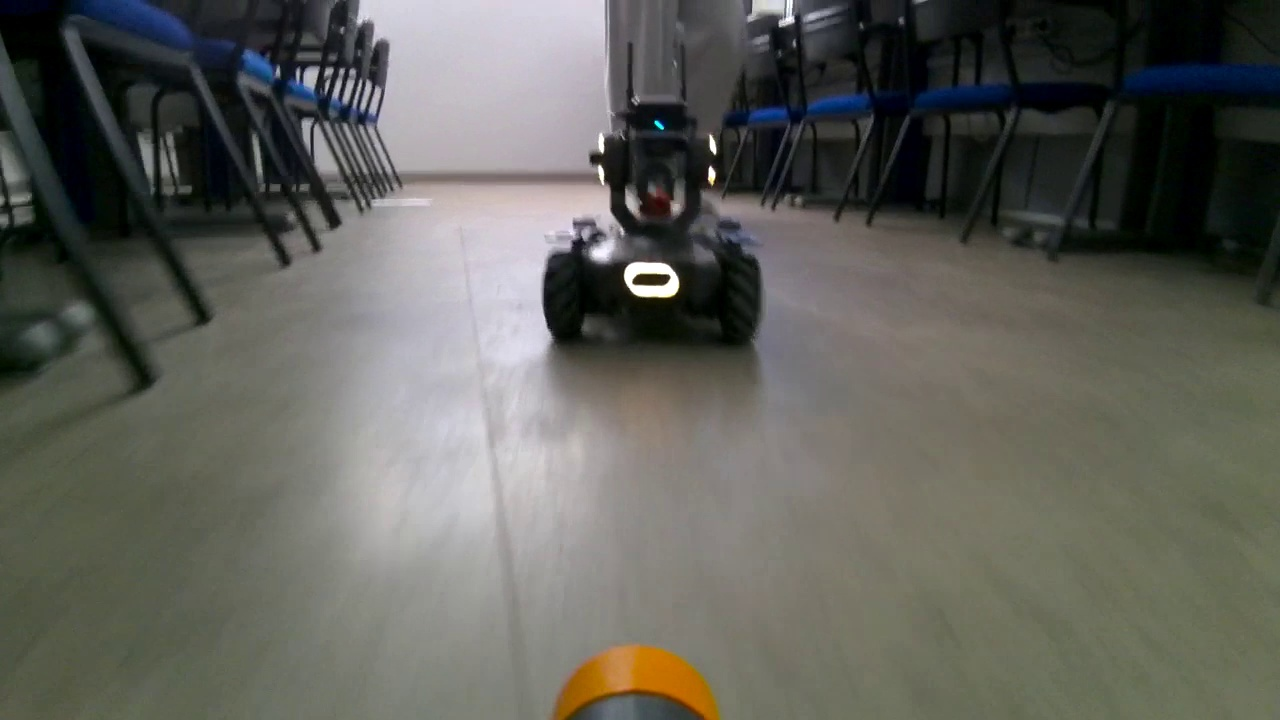robot: (531, 23, 781, 353)
